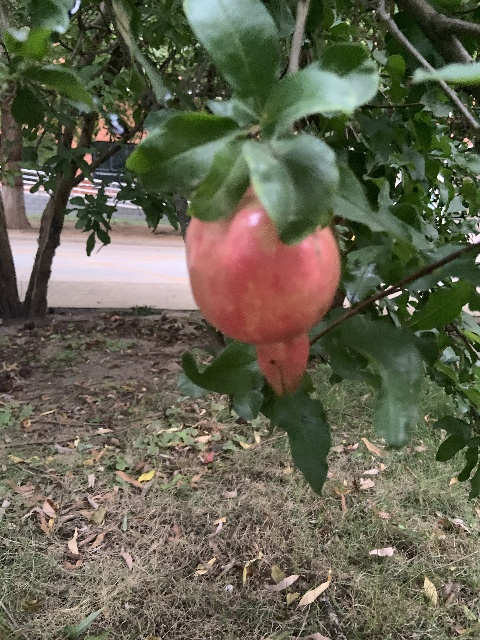ripe: (184, 184, 341, 397)
